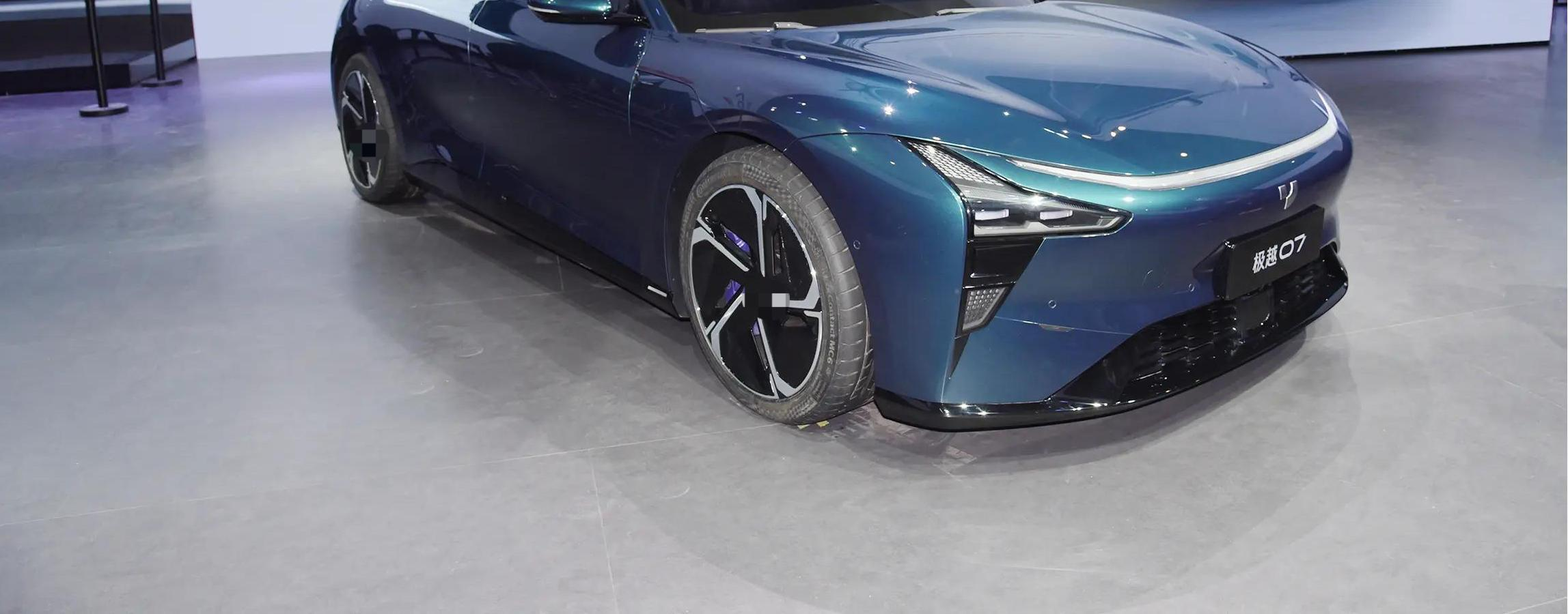JIYUE: (1278, 181, 1297, 209)
